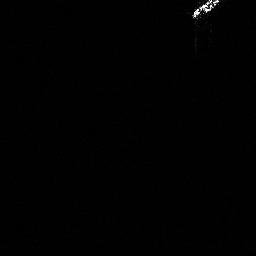ship: (189, 1, 223, 23)
